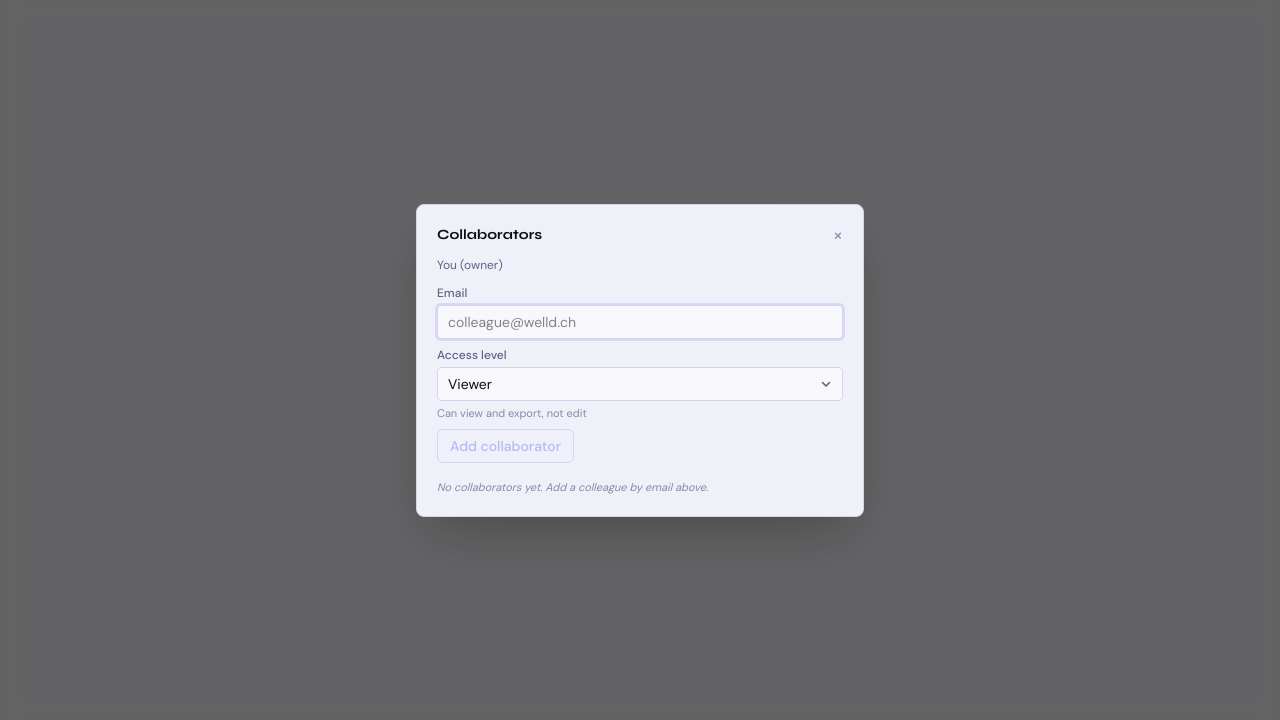
Test case: CollaboratorsDialog — owner mode (T20, specs/013) › 429 rate-limited › shows the rate-limited copy and disables Add for a cooldown
Expected: the text "No collaborators yet. Add a colleague by email above." is shown, [437,480,708,494]
Type "someone@welld.ch" into the field with test id "collaborators-dialog-email-input" at (640, 322), box [437,304,843,338]
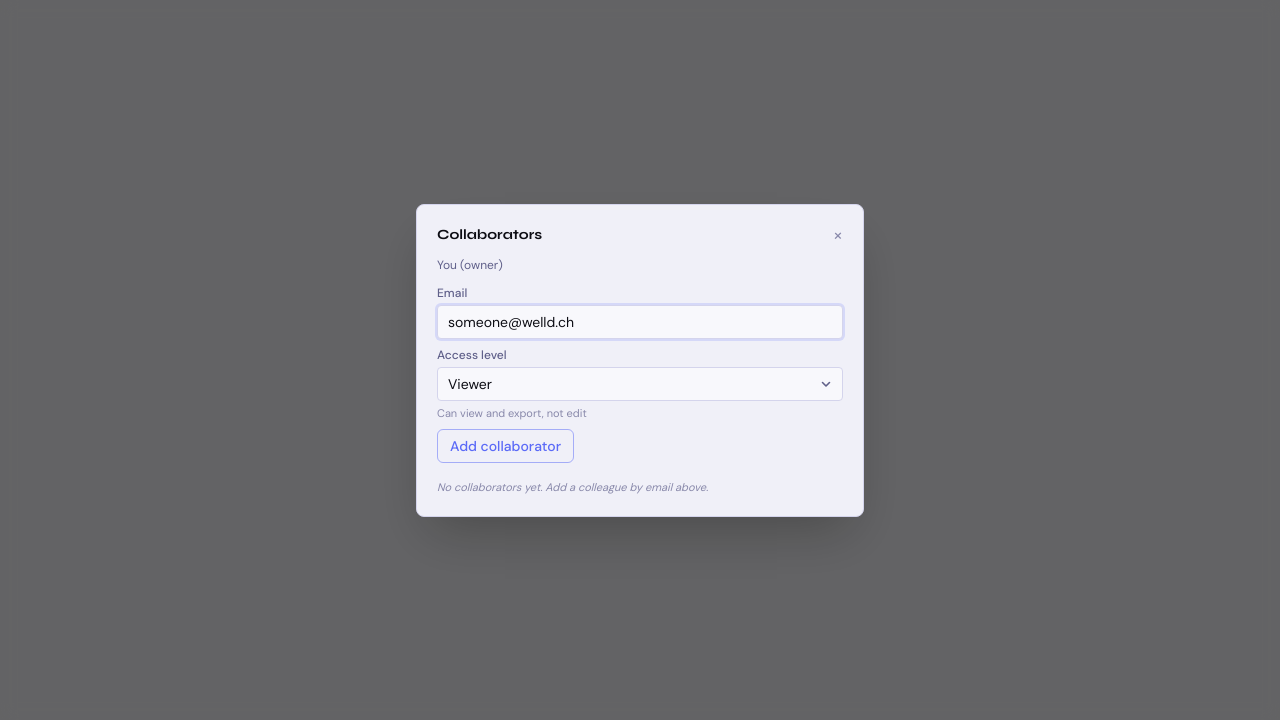
Click the button with test id "collaborators-dialog-add-button" at (506, 446), box [437,429,574,463]
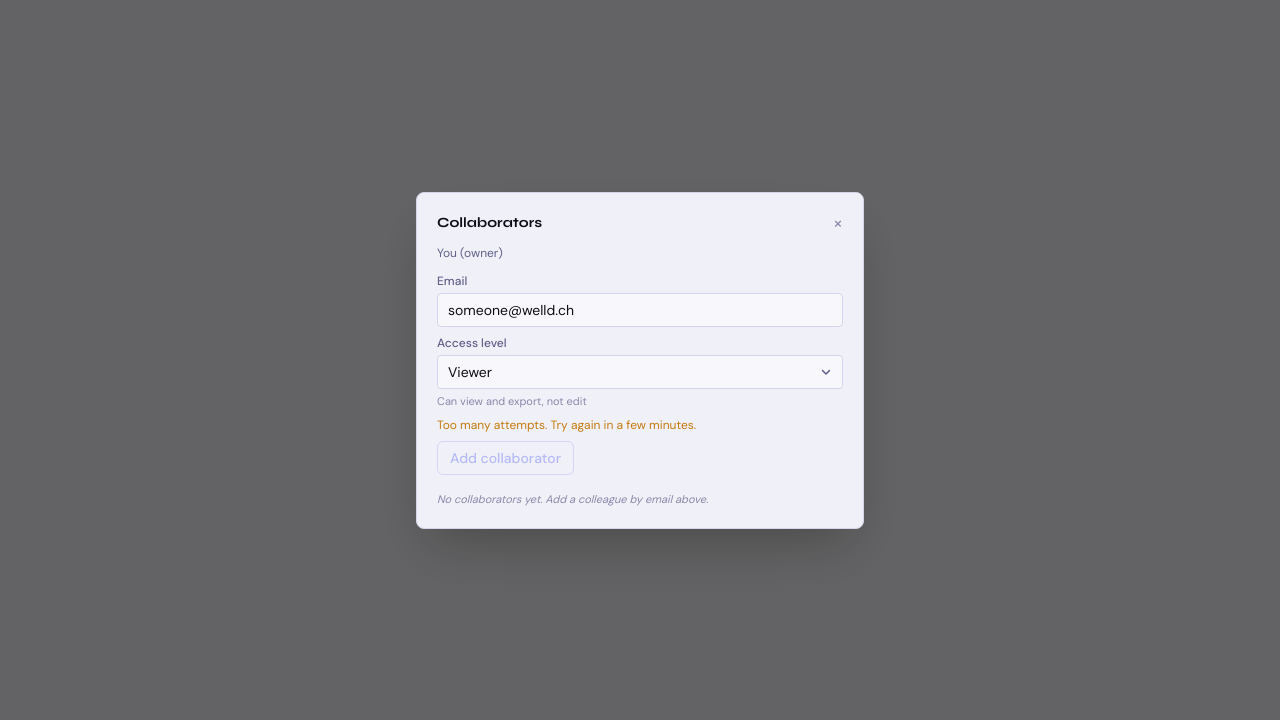
Expected: the message with test id "collaborators-dialog-add-error" reads "Too many attempts. Try again in a few minutes.", [437,417,696,433]
Expected: the button with test id "collaborators-dialog-add-button" is disabled, [437,441,574,475]
